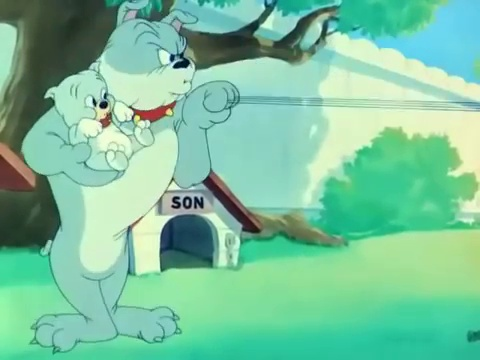spike: (92, 1, 203, 125)
